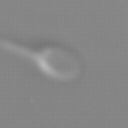normal: (1, 38, 35, 61)
